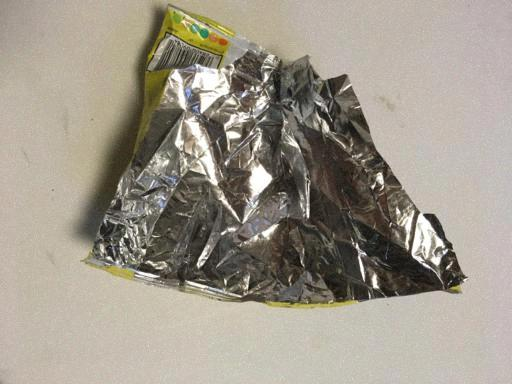trash: (78, 6, 470, 310)
